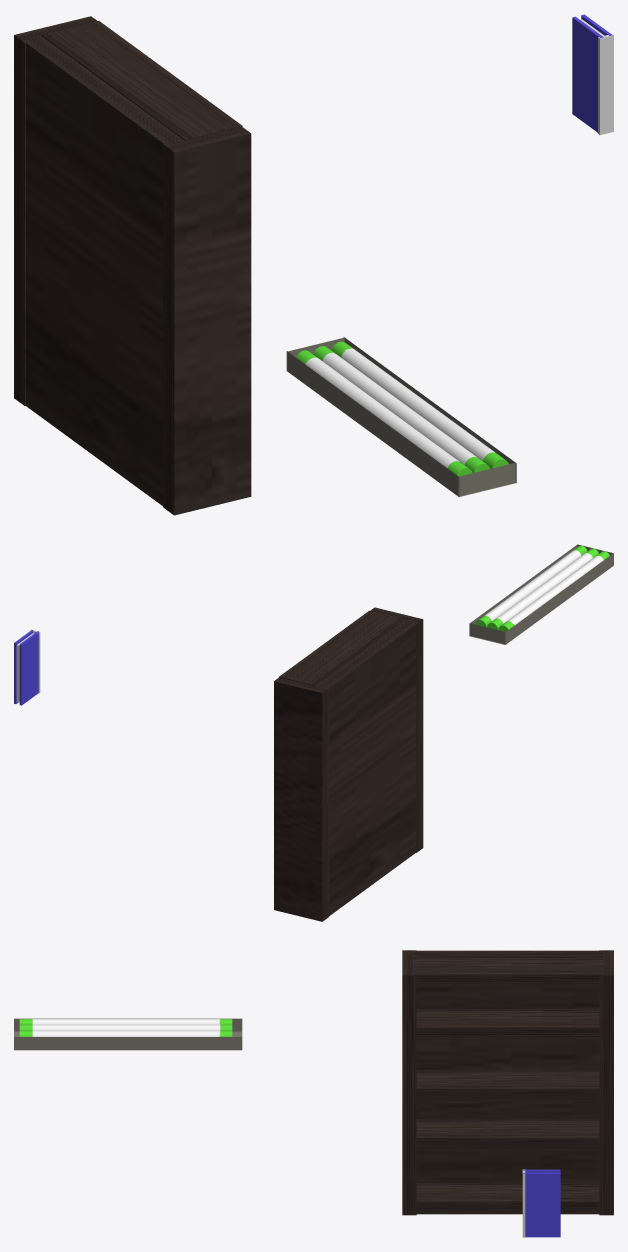
Rendered from furniture.fbx.
The picture shows the model from 3 angles, top to bottom: view 1: azimuth 30°, elevation 25°; view 2: azimuth 150°, elevation 25°; view 3: azimuth 270°, elevation 25°; orthographic projection. The views are drawn at different scales.
Visible parts, largest first — view 1: Cube.003, Plane, Cylinder.007, Cube.001, Cylinder.004, Cylinder.001, Cube.004; view 2: Cube.003, Plane, Cube.001, Cylinder.007, Cylinder.004, Cylinder.001; view 3: Cube.003, Plane, Cube.002, Cylinder.004, Cylinder.007, Cylinder.001.
Part boxes in pixels (bbox=[...]): Cube.003: bbox=[14, 16, 251, 515]; Plane: bbox=[286, 337, 516, 496]; Cylinder.007: bbox=[341, 348, 495, 460]; Cube.001: bbox=[572, 16, 603, 132]; Cylinder.004: bbox=[322, 352, 476, 464]; Cylinder.001: bbox=[305, 357, 459, 467]; Cube.004: bbox=[598, 34, 613, 135]; Cube.003: bbox=[274, 607, 423, 921]; Plane: bbox=[469, 544, 613, 644]; Cube.001: bbox=[19, 631, 38, 705]; Cylinder.007: bbox=[484, 550, 581, 620]; Cylinder.004: bbox=[496, 553, 592, 623]; Cylinder.001: bbox=[507, 555, 603, 624]; Cube.003: bbox=[402, 950, 613, 1215]; Plane: bbox=[14, 1018, 242, 1050]; Cube.002: bbox=[523, 1172, 560, 1237]; Cylinder.004: bbox=[32, 1024, 220, 1030]; Cylinder.007: bbox=[32, 1030, 220, 1036]; Cylinder.001: bbox=[32, 1019, 220, 1024].
Bounding box in the file's own units: 1883 × 1215 × 2744.
13 materials, 1 textured.
